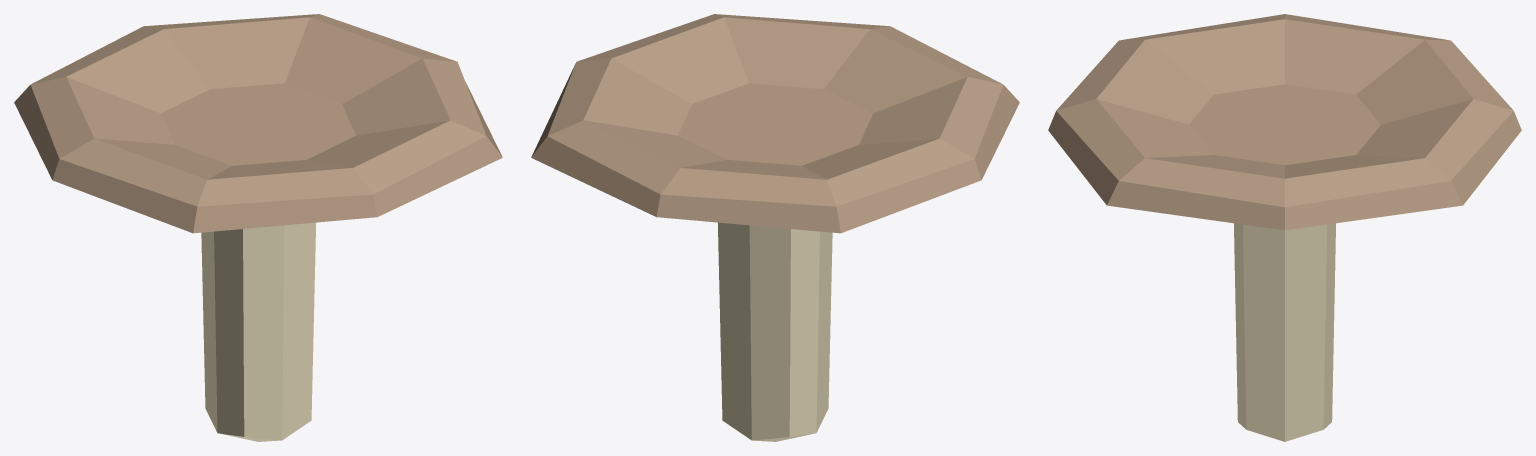
Rendered from Haaparousku.fbx.
The picture shows the model from 3 angles, left to right: view 1: azimuth 30°, elevation 25°; view 2: azimuth 150°, elevation 25°; view 3: azimuth 270°, elevation 25°; orthographic projection.
Visible parts, largest first — view 1: Cap.007, Leg.007; view 2: Cap.007, Leg.007; view 3: Cap.007, Leg.007.
Part boxes in pixels (x1=…): Cap.007: x1=14, y1=14, x2=502, y2=233; Leg.007: x1=201, y1=222, x2=315, y2=441; Cap.007: x1=531, y1=14, x2=1019, y2=233; Leg.007: x1=718, y1=222, x2=832, y2=441; Cap.007: x1=1048, y1=14, x2=1521, y2=230; Leg.007: x1=1234, y1=223, x2=1335, y2=441.
Size of the model in its own units: 22.12 by 17.61 by 22.12.
